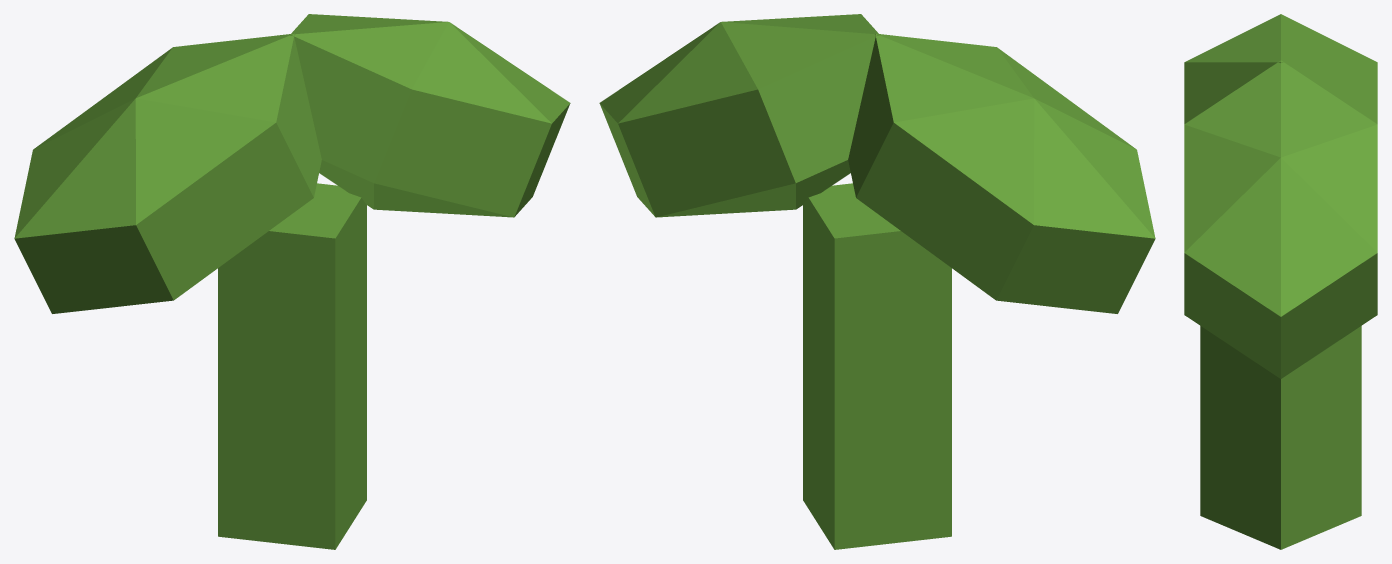
The model's file is turnip_0.glb.
3 views of the same model, side by side, from view 1: azimuth 30°, elevation 25°; view 2: azimuth 150°, elevation 25°; view 3: azimuth 270°, elevation 25° (orthographic). The views are drawn at different scales.
Visible parts, largest first — view 1: plant; view 2: plant; view 3: plant.
Boxes of the visible parts, x1,y1,x2,y2 form: plant: (14, 14, 570, 549); plant: (599, 14, 1155, 549); plant: (1184, 14, 1377, 549).
Bounding box in the file's own units: 0.1869 × 0.1556 × 0.06.
